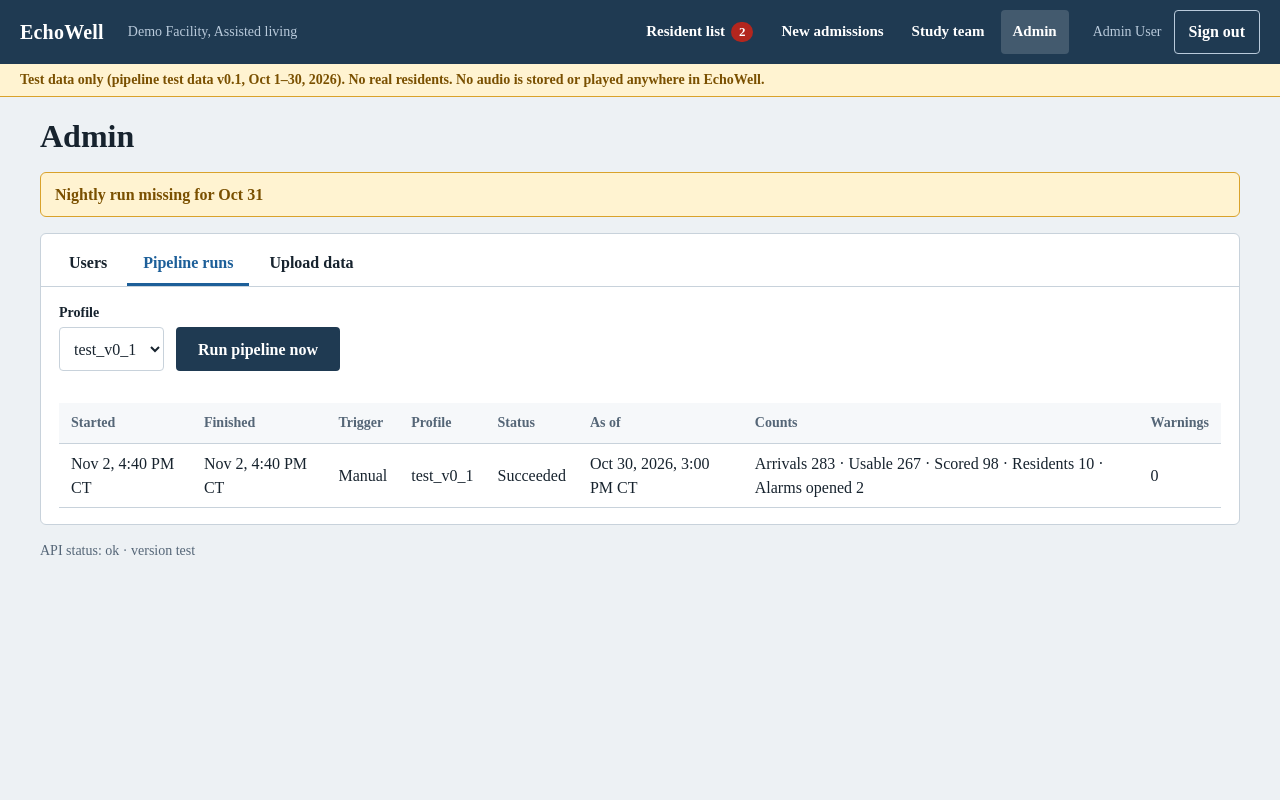
it: /admin › Pipeline runs › shows a running run while it is polled
The image size is (1280, 800).
Click the button "Run pipeline now" at (258, 349), box [176,327,340,371]
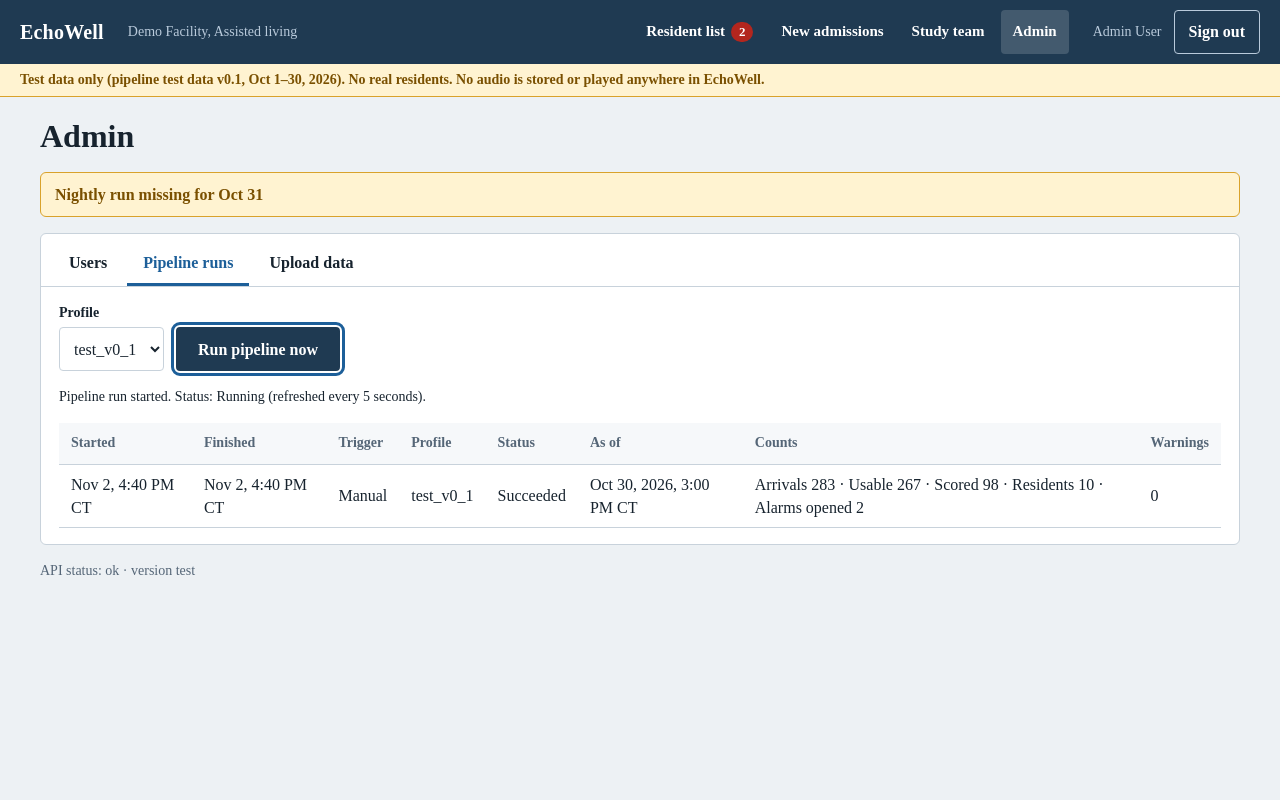
Expected: the text "Pipeline run started. Status: Running (refreshed every 5 seconds)." is shown, [59,389,426,404]
